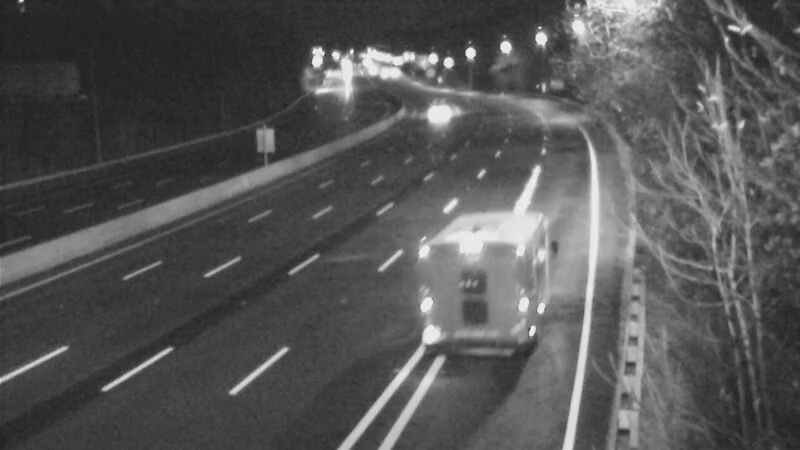vehicle: (450, 221, 530, 301), (408, 89, 458, 139)
